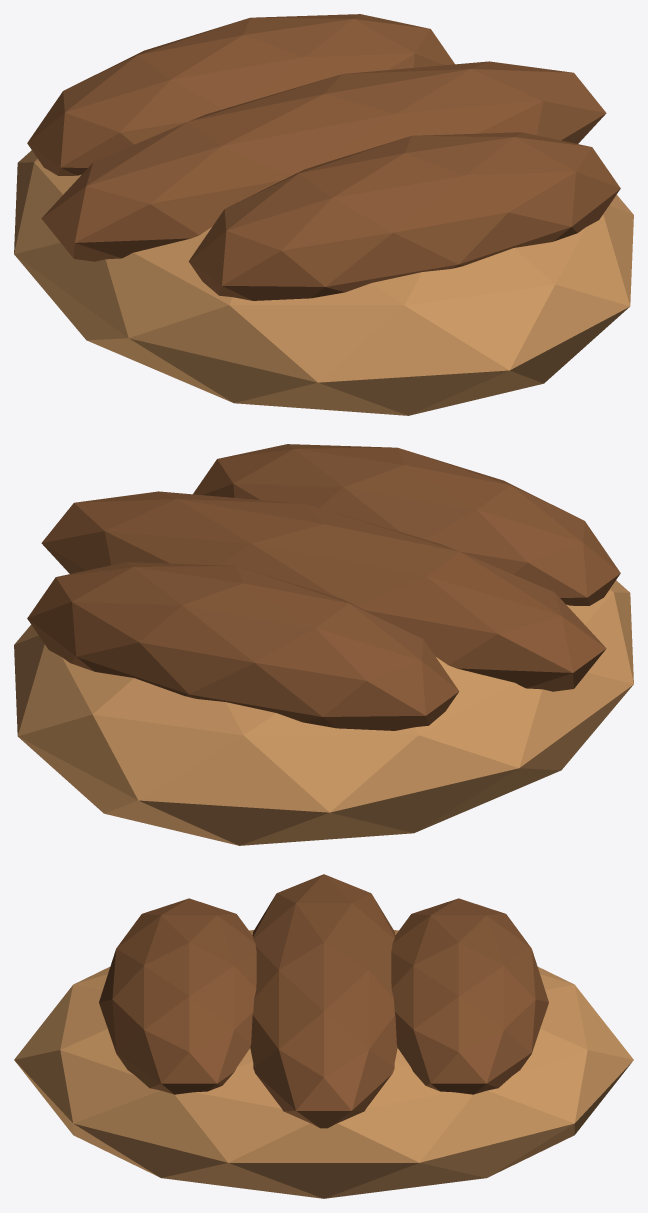
Rendered from roach_meat.glb.
3 renders of one model, top to bottom at view 1: azimuth 30°, elevation 25°; view 2: azimuth 150°, elevation 25°; view 3: azimuth 270°, elevation 25°, orthographic. The views are drawn at different scales.
Visible parts, largest first — view 1: Roach cut, Shell plate, Shell plate.001, Shell plate.002; view 2: Roach cut, Shell plate.002, Shell plate.001, Shell plate; view 3: Roach cut, Shell plate.001, Shell plate, Shell plate.002.
Boxes of the visible parts, x1,y1,x2,y2 form: Roach cut: (14, 150, 633, 415); Shell plate: (188, 132, 620, 300); Shell plate.001: (41, 61, 606, 261); Shell plate.002: (27, 14, 454, 175); Roach cut: (14, 580, 633, 845); Shell plate.002: (27, 562, 459, 730); Shell plate.001: (41, 491, 606, 691); Shell plate: (193, 444, 620, 605); Roach cut: (14, 930, 633, 1198); Shell plate.001: (250, 874, 397, 1128); Shell plate: (99, 898, 256, 1094); Shell plate.002: (391, 898, 548, 1094).
Bounding box in the file's own units: 0.3804 × 0.169 × 0.46.
